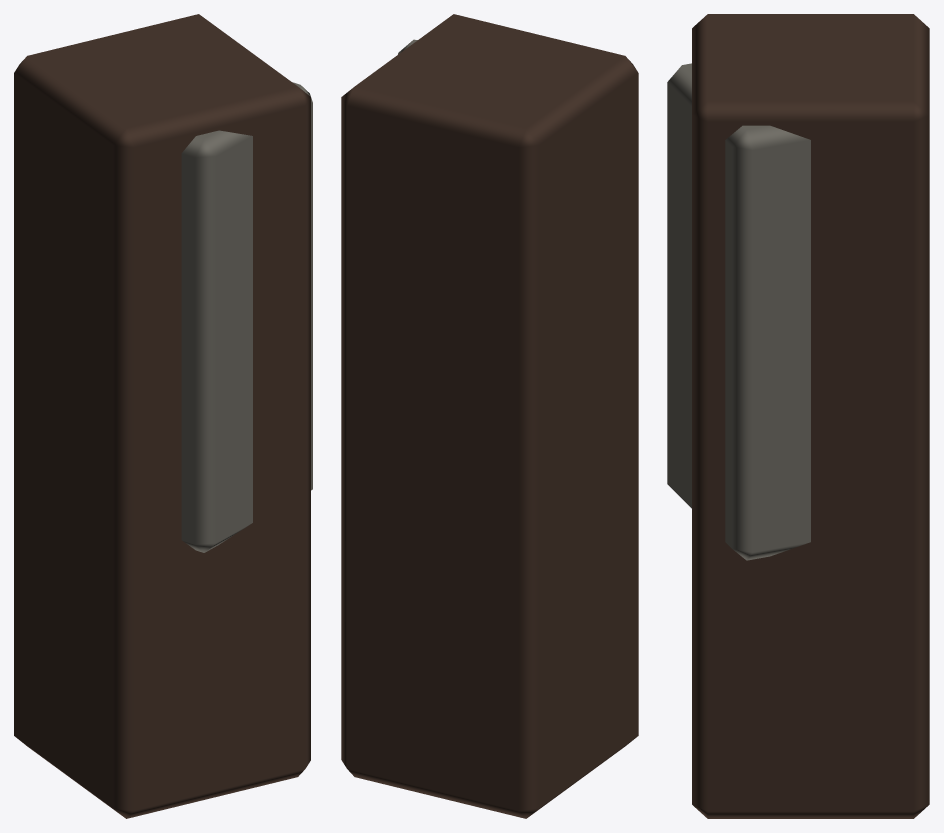
File: village-cliff-corner.ab9623de.glb
3 views of the same model, side by side, from view 1: azimuth 30°, elevation 25°; view 2: azimuth 150°, elevation 25°; view 3: azimuth 270°, elevation 25° (orthographic). The views are drawn at different scales.
Parts seen in each view (by area): view 1: body; view 2: body; view 3: body.
Part boxes in pixels (x1,y1,x2,y2): body: (14,14,312,818); body: (341,14,638,818); body: (667,14,929,818).
Bounding box in the file's own units: 0.662 × 2 × 0.662.
